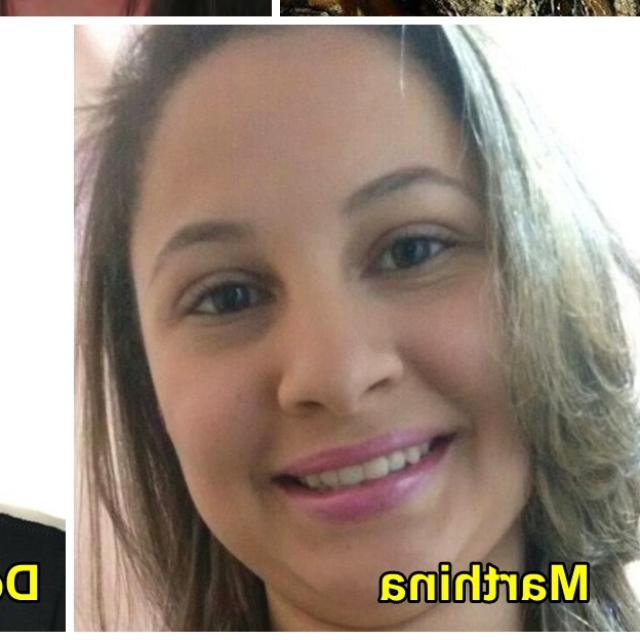Normal: (122, 31, 534, 622)
